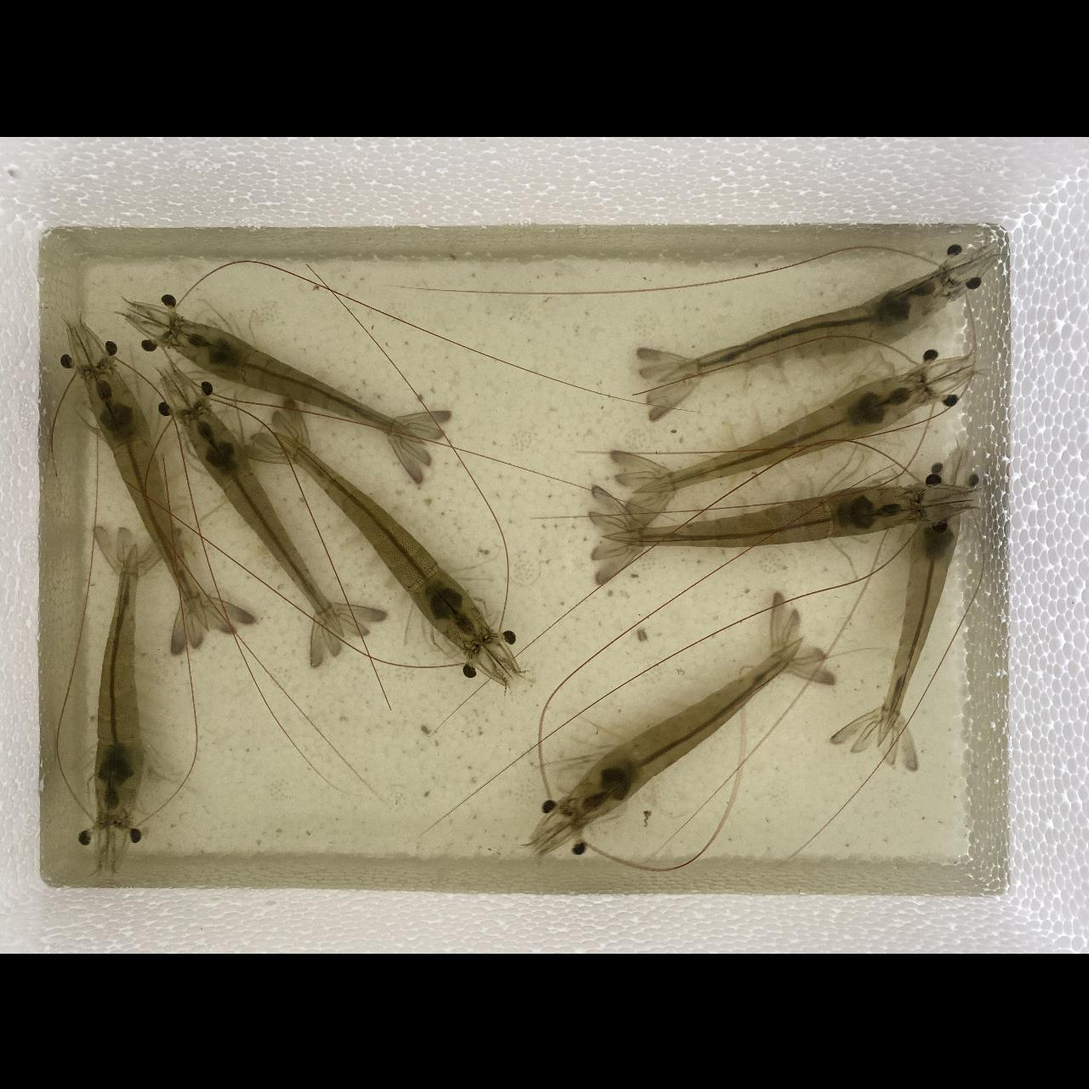top_shrimp: (272, 430, 488, 647), (568, 641, 800, 822), (184, 403, 342, 633), (640, 374, 926, 493), (665, 272, 948, 378), (172, 322, 419, 441), (88, 364, 202, 621), (614, 485, 919, 546), (880, 493, 956, 733), (95, 551, 143, 820)
